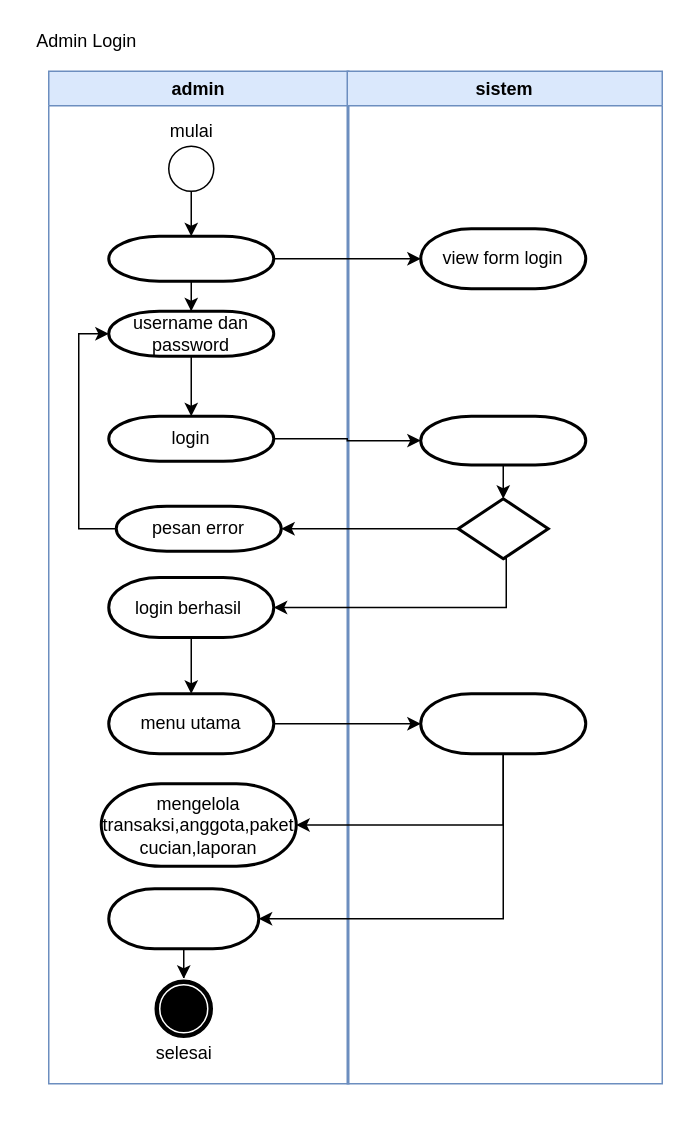
This 689x1122 diagram has some shape labels left out. The centre of each missing label's shape, as x and y in pixels:
"logout" belongs at [183,918].
"membuka sistem" belongs at [190,258].
"validasi" belongs at [502,440].
"view menu" belongs at [502,723].
